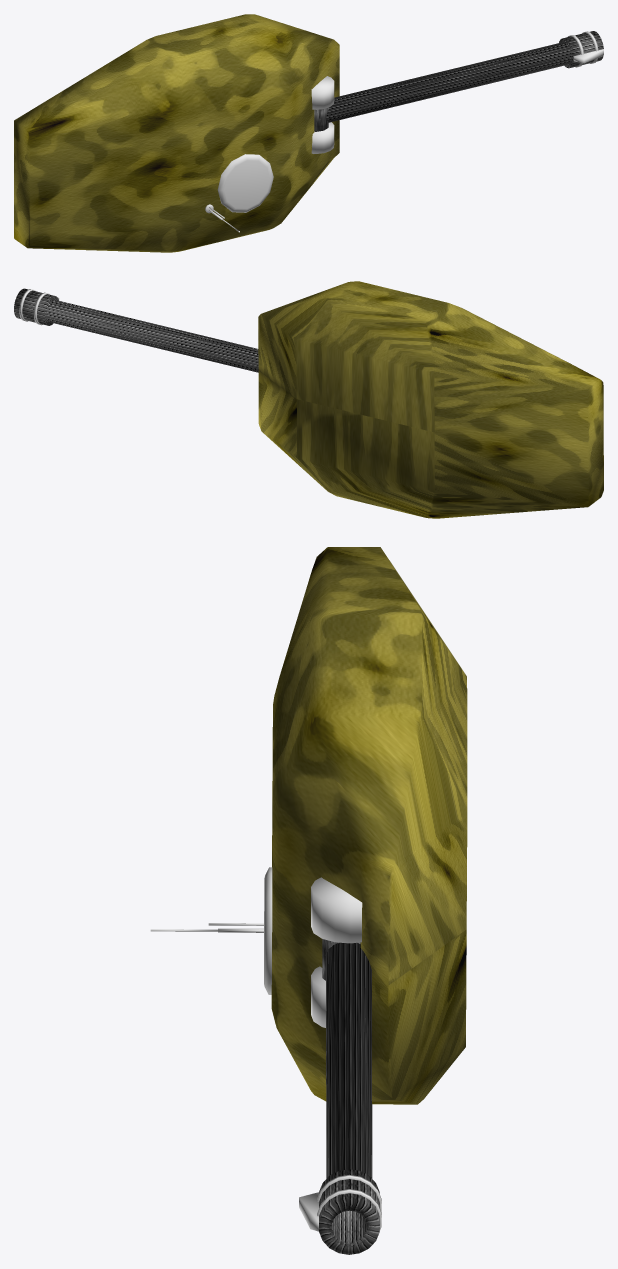
File: Cannon_dead.fbx
3 renders of one model, top to bottom at view 1: azimuth 30°, elevation 25°; view 2: azimuth 150°, elevation 25°; view 3: azimuth 270°, elevation 25°, orthographic. The views are drawn at different scales.
Visible parts, largest first — view 1: Base, Cannon, Color, Color0; view 2: Base, Cannon; view 3: Base, Cannon, Color, Color0.
Part boxes in pixels (bbox=[...]): Base: bbox=[14, 14, 339, 252]; Cannon: bbox=[314, 31, 603, 131]; Color: bbox=[205, 76, 334, 232]; Color0: bbox=[568, 31, 603, 67]; Base: bbox=[258, 281, 603, 518]; Cannon: bbox=[14, 288, 258, 372]; Base: bbox=[271, 547, 467, 1104]; Cannon: bbox=[319, 939, 379, 1254]; Color: bbox=[150, 867, 362, 1027]; Color0: bbox=[299, 1174, 381, 1231].
Size of the model in its own units: 91.5 by 30.24 by 21.86.
Materials: 2 (2 with a texture image).
